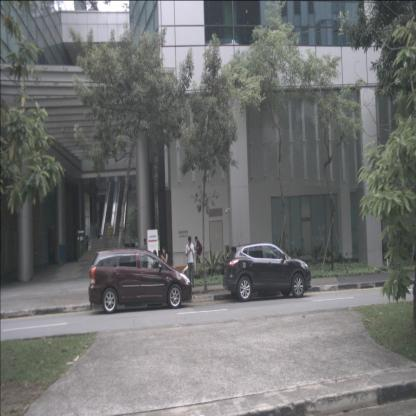human-pedestrian-adult: (185, 236, 195, 288), (194, 236, 202, 277), (152, 250, 160, 287), (161, 247, 168, 287), (142, 238, 148, 272)
vehicle-car: (88, 248, 192, 314), (223, 243, 312, 302)
